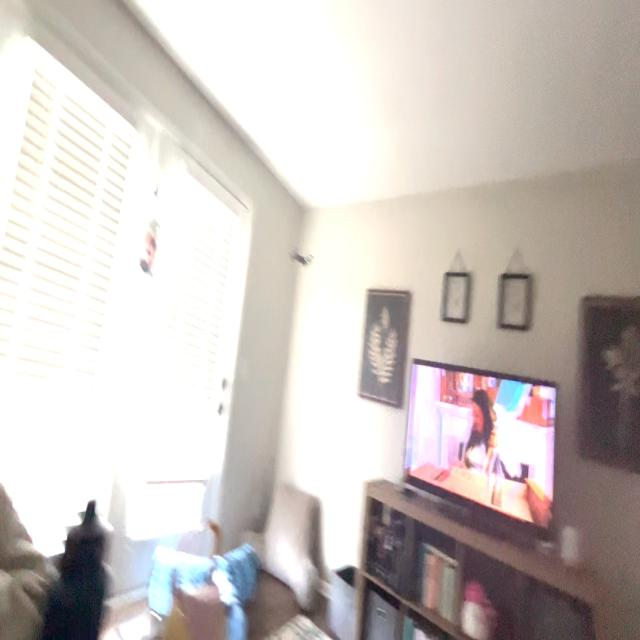drone: (282, 241, 321, 284)
